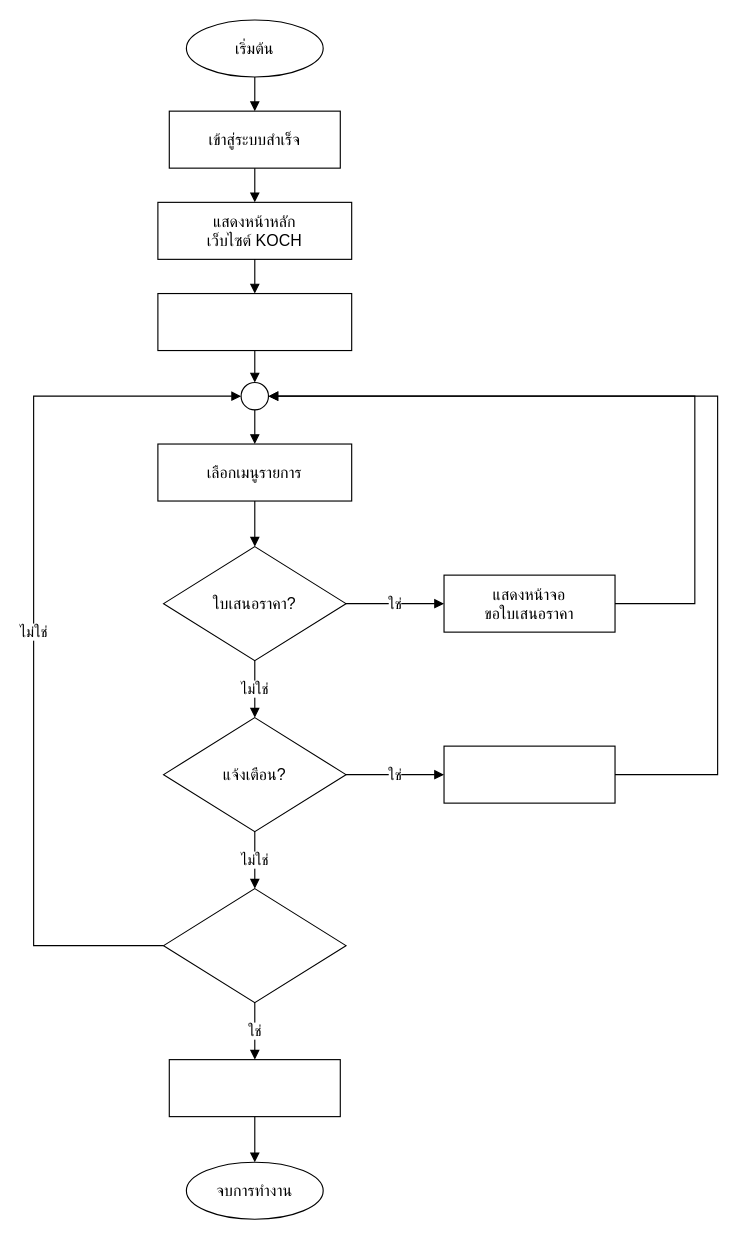
Image size: 747x1239. Some labels were removed from this diagram. The centre of each missing label's shape, as x and y in pixels:
"กลับสู่หน้า เข้าสู่ระบบ" belongs at point 254,1087.
"ออกจากระบบ?" belongs at point 254,945.
"แสดงหน้าจอ แจ้งเตือน" belongs at point 529,774.
"แสดงเมนูรายการ ทั้งหมด" belongs at point 254,321.
